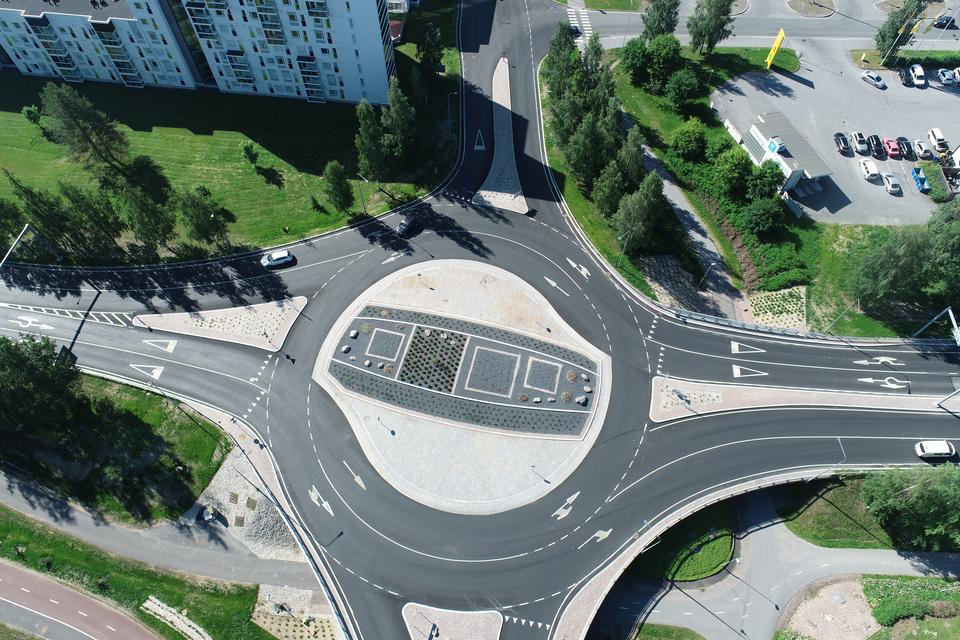intersection: (445, 0, 624, 74)
roundabout: (232, 178, 668, 640)
